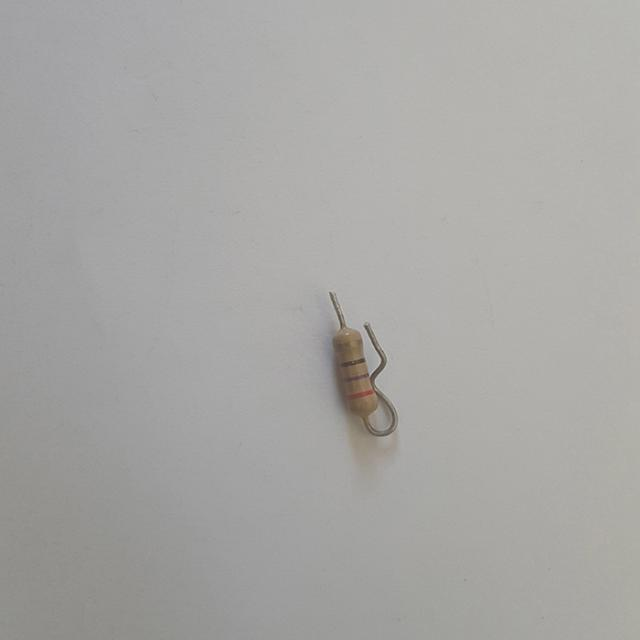black: (340, 358, 365, 367)
gold: (334, 338, 363, 347)
red: (347, 389, 374, 398)
resistor: (325, 324, 384, 420)
violet: (344, 373, 368, 381)
